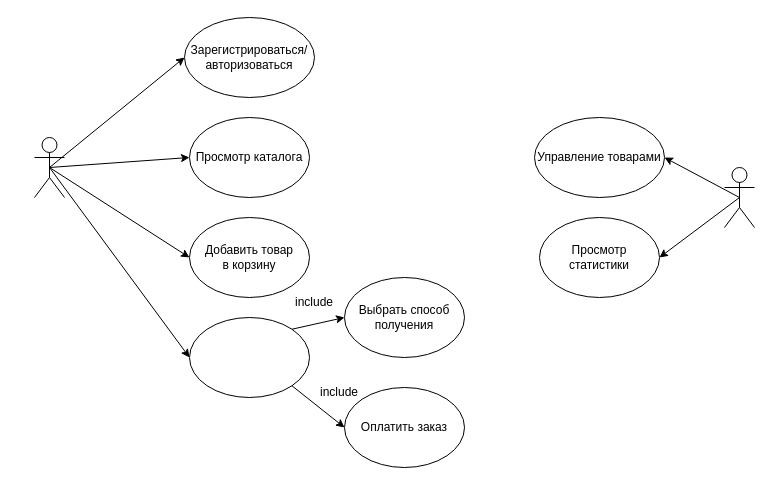
This 775x485 diagram has some shape labels left out. Here are the shapes that lost their labels. From the top down, the centre of each, then its label:
point (49, 167): Покупатель
point (739, 197): Админ
point (249, 357): Оформить заказ
